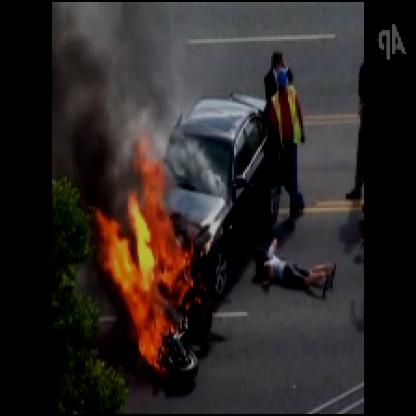Fire: (98, 145, 208, 379)
Smoke: (54, 2, 176, 171)
